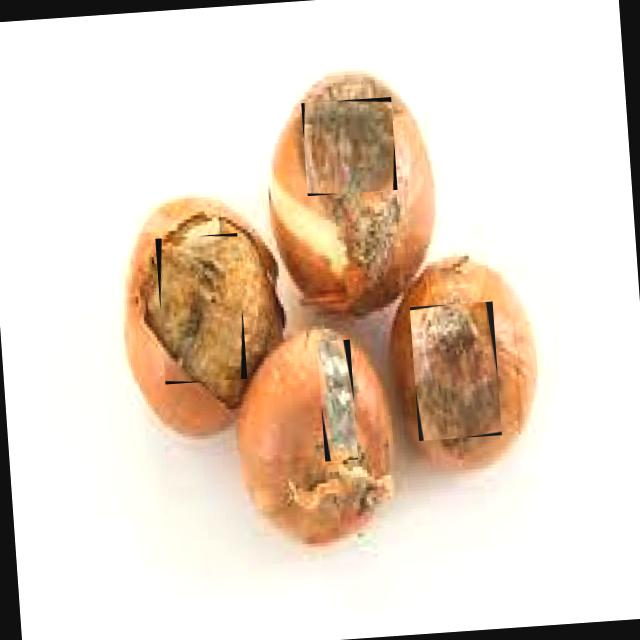rotten: (155, 233, 247, 384), (409, 301, 502, 440), (301, 96, 397, 196), (316, 339, 358, 464)
